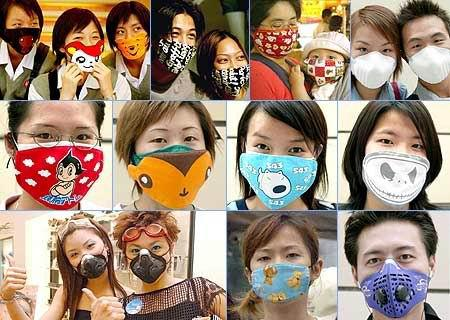OK: (28, 118, 104, 204), (357, 240, 432, 315), (140, 126, 212, 202), (244, 129, 316, 204), (365, 127, 428, 200), (252, 239, 313, 300), (403, 36, 450, 89), (350, 38, 398, 86), (125, 237, 172, 284), (65, 237, 107, 279), (261, 16, 300, 55), (8, 16, 45, 53), (114, 21, 150, 57), (307, 47, 343, 83)
WRONG: (211, 48, 252, 89), (161, 24, 197, 68), (69, 29, 103, 70)
